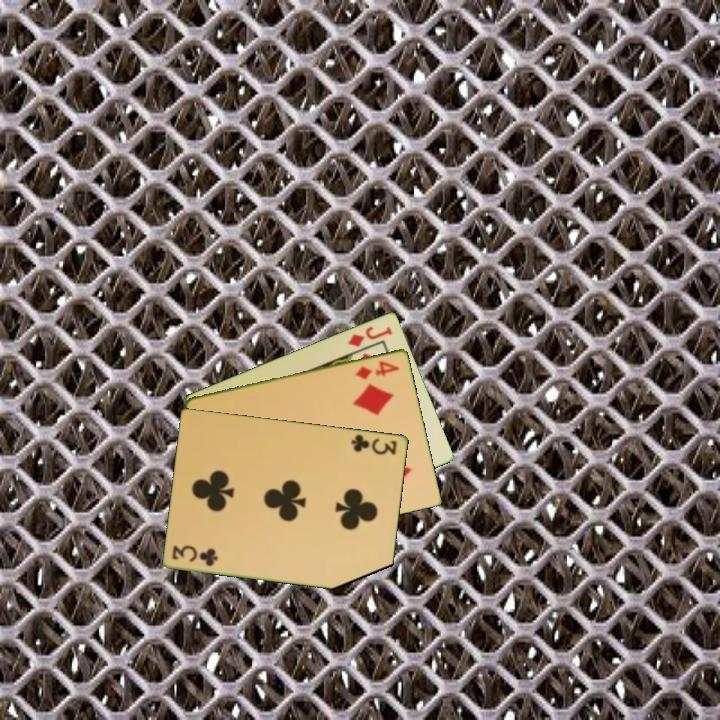3c: (169, 542, 221, 569), (348, 431, 400, 457)
4d: (352, 357, 402, 382)
Jd: (344, 322, 395, 350)
